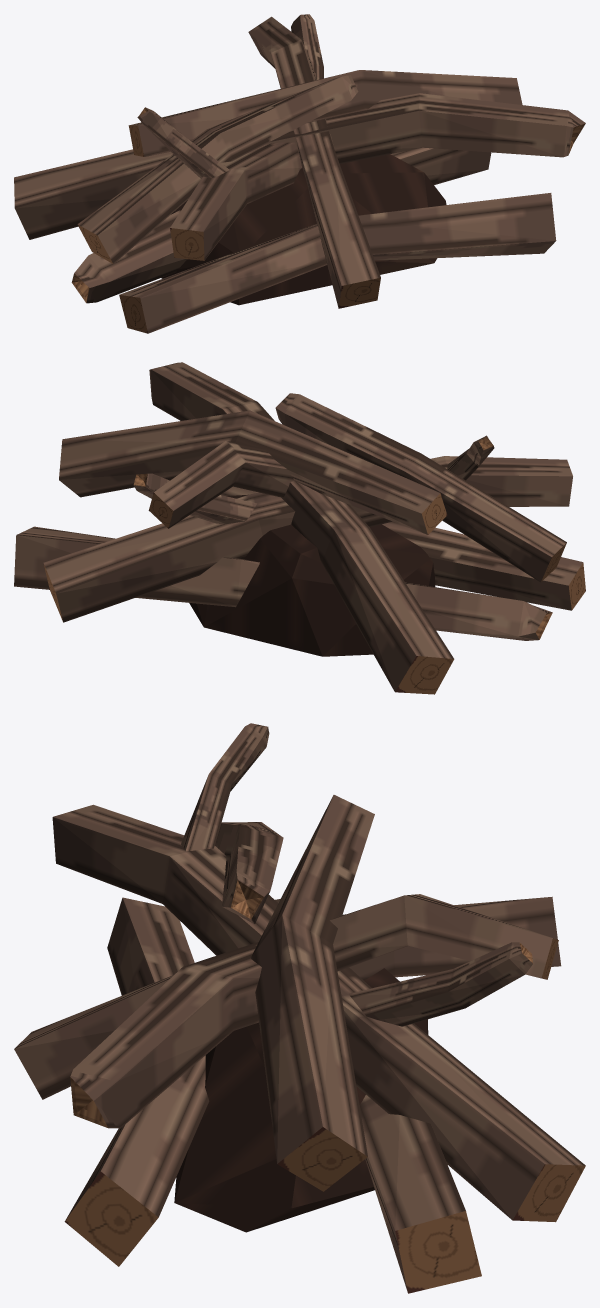
The model's file is SM_DW10_SticksLarge.fbx.
3 renders of one model, top to bottom at view 1: azimuth 30°, elevation 25°; view 2: azimuth 150°, elevation 25°; view 3: azimuth 270°, elevation 25°, orthographic. The views are drawn at different scales.
Visible parts, largest first — view 1: DW10_Wood; view 2: DW10_Wood; view 3: DW10_Wood.
Part boxes in pixels (x1,y1,x2,y2): DW10_Wood: (14, 14, 585, 333); DW10_Wood: (14, 362, 585, 694); DW10_Wood: (14, 723, 585, 1293).
Bounding box in the file's own units: 1.75 × 0.7089 × 1.26.
